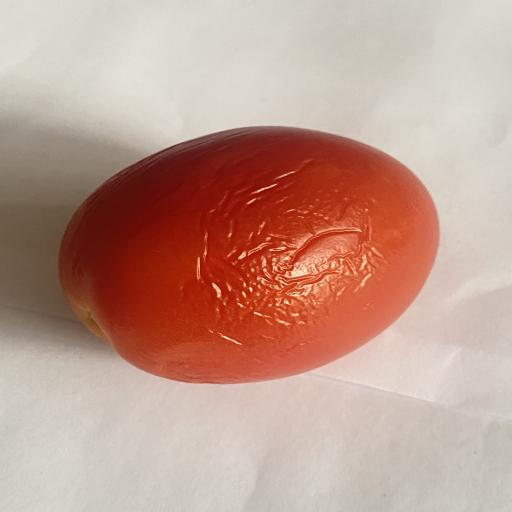spoiled: (59, 126, 438, 383)
